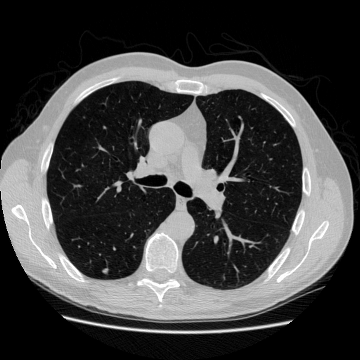nodule: (102, 268, 108, 274)
